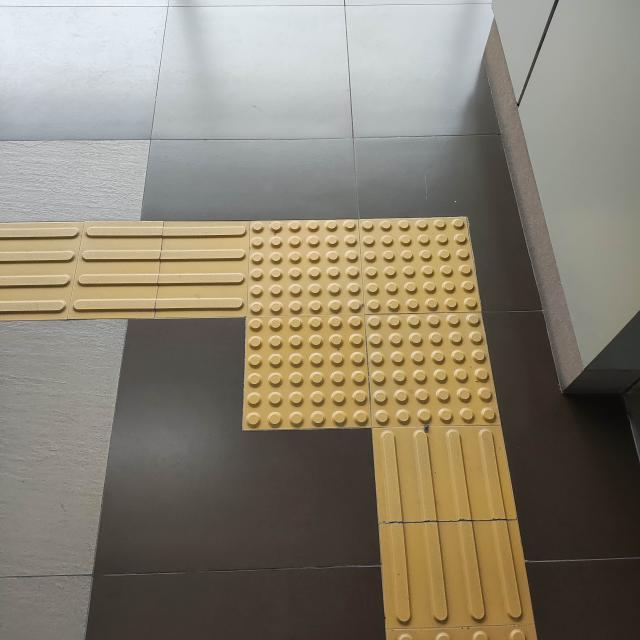kiri: (29, 170, 584, 493)
